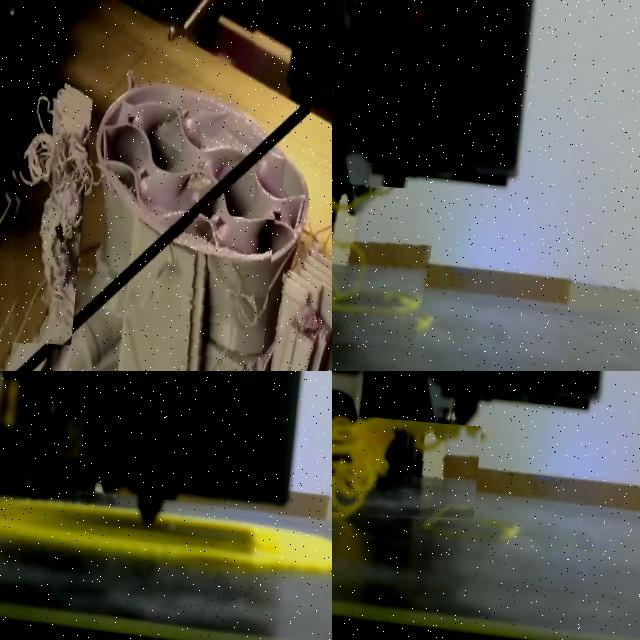spaghetti: (0, 79, 93, 347), (145, 211, 274, 371), (332, 417, 481, 514), (354, 205, 376, 221)
